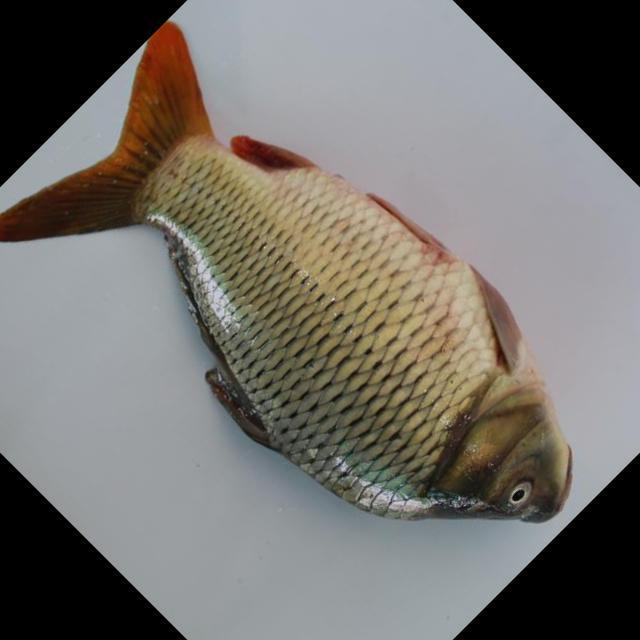CommonCarp: (5, 23, 600, 527)
